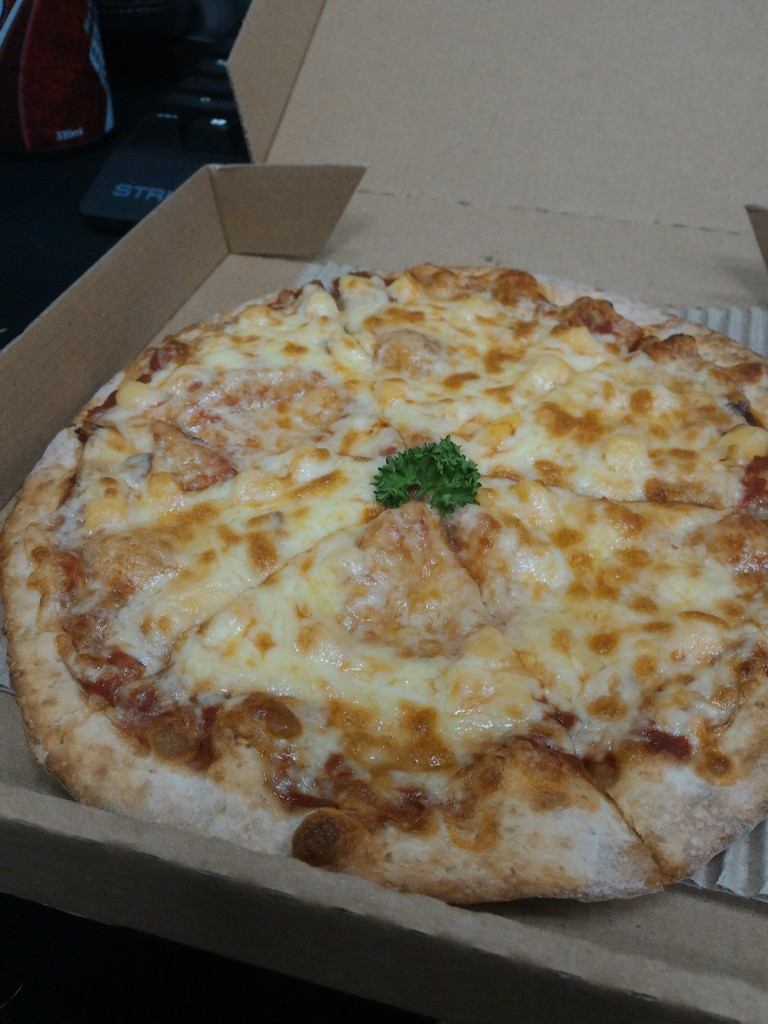Pizza: (7, 265, 766, 908)
